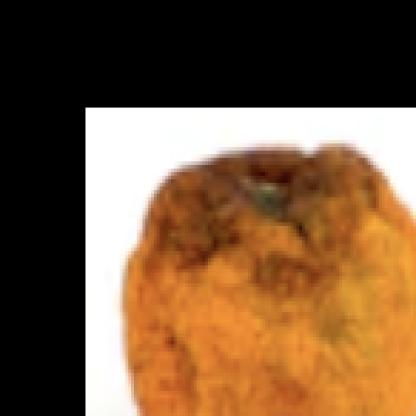rotten: (126, 143, 416, 416)
